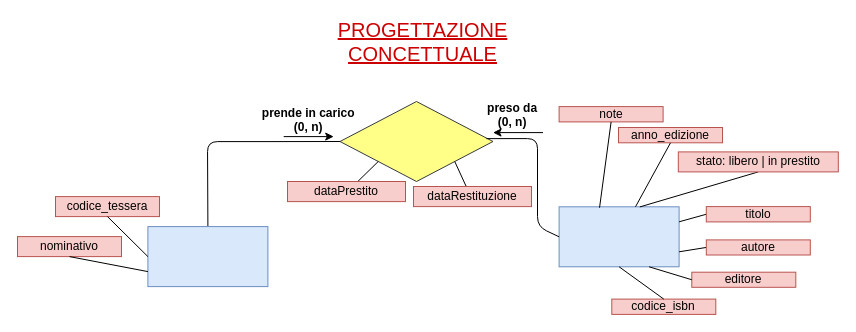
This 856x332 diagram has some shape labels left out. Each missing label, with the box of its shape:
LIBRO: (558, 206, 679, 267)
prestito: (339, 100, 493, 182)
UTENTE BIBLIOTECA: (147, 226, 268, 287)
